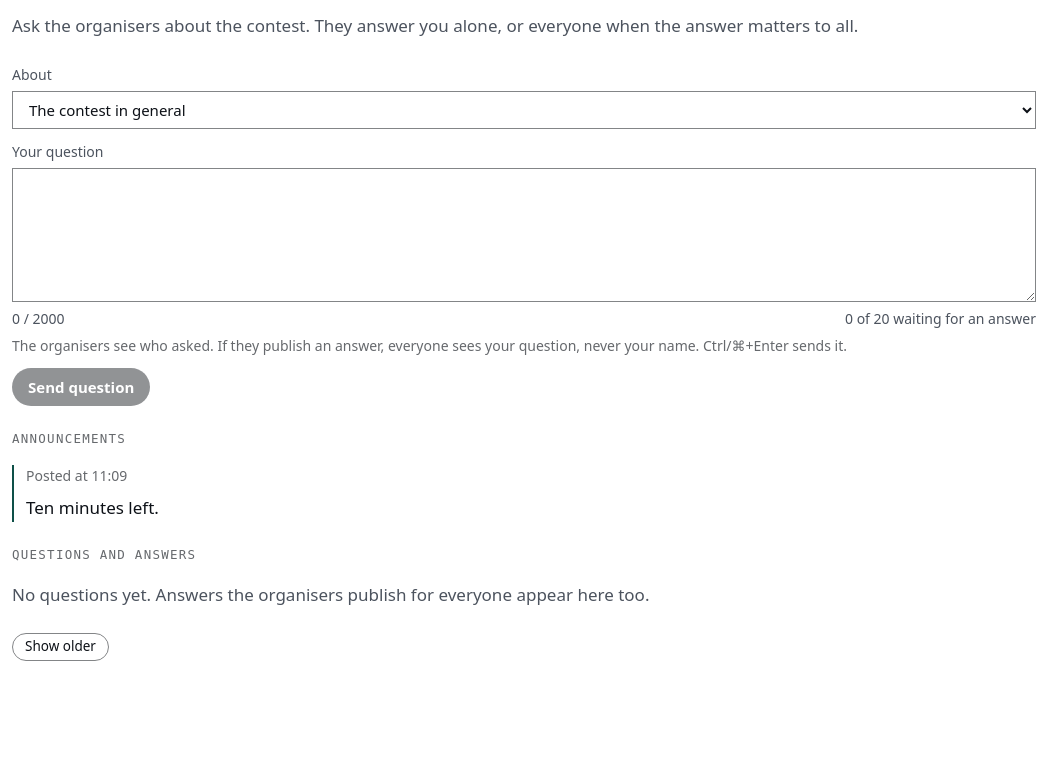
Test: the questions to the organisers › loads older entries with the cursor the page gave
Click the button "Show older": (60, 647) [12, 633, 109, 661]
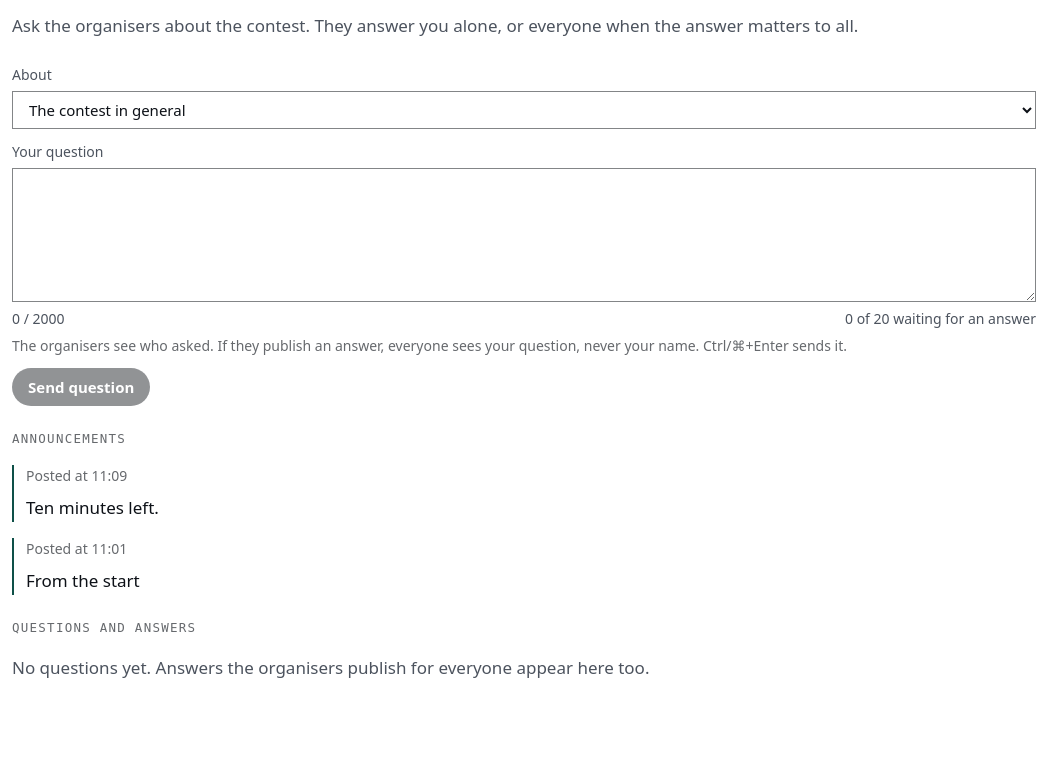
Expected: the text "From the start" is shown, [26, 569, 140, 592]
Expected: the button "Show older" is gone
